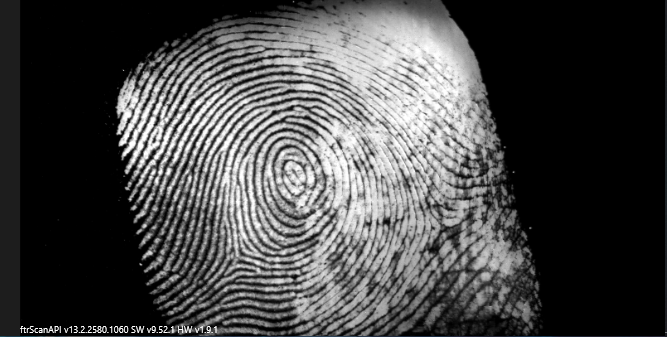nucelo: (281, 162, 307, 191)
verticilo: (222, 249, 258, 269), (422, 218, 451, 239)
